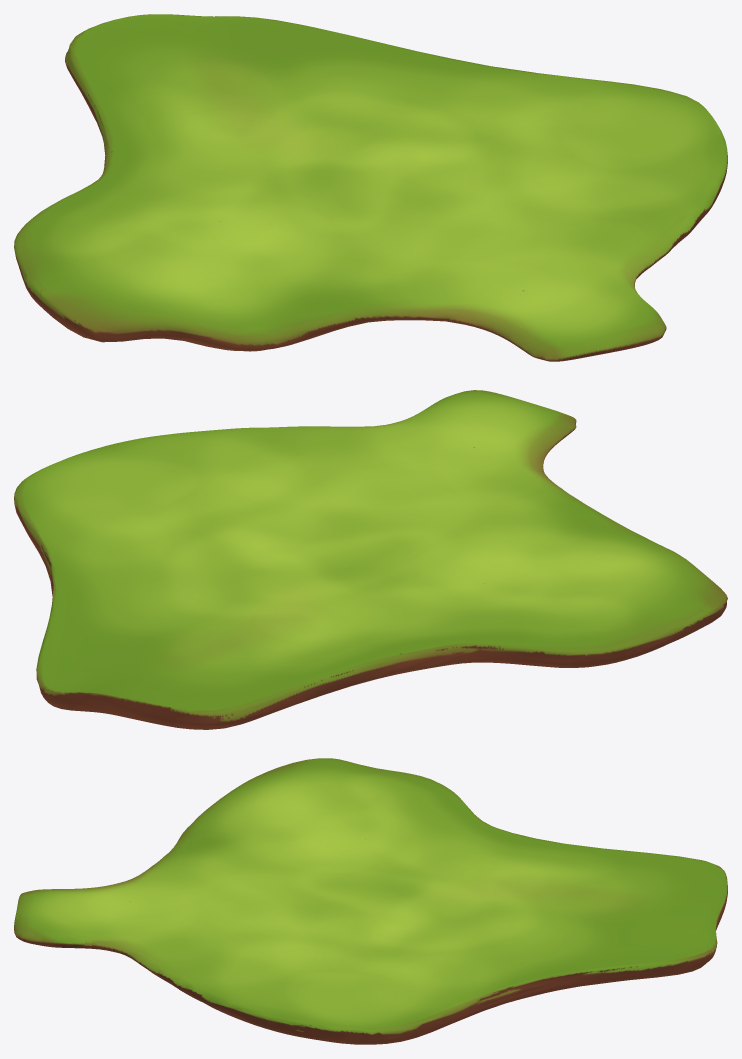
File: Town_Ground.glb
3 renders of one model, top to bottom at view 1: azimuth 30°, elevation 25°; view 2: azimuth 150°, elevation 25°; view 3: azimuth 270°, elevation 25°, orthographic. The views are drawn at different scales.
Parts seen in each view (by area): view 1: Circle; view 2: Circle; view 3: Circle.
Part boxes in pixels (x1,y1,x2,y2): Circle: (14, 14, 727, 361); Circle: (14, 390, 727, 729); Circle: (14, 758, 727, 1044).
Size of the model in its own units: 236 by 14.36 by 262.
1 material, 1 textured.
